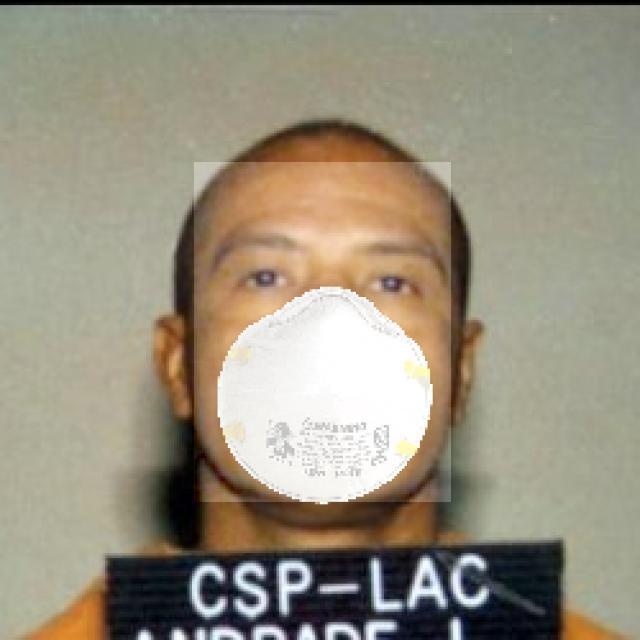n95: (194, 162, 451, 502)
